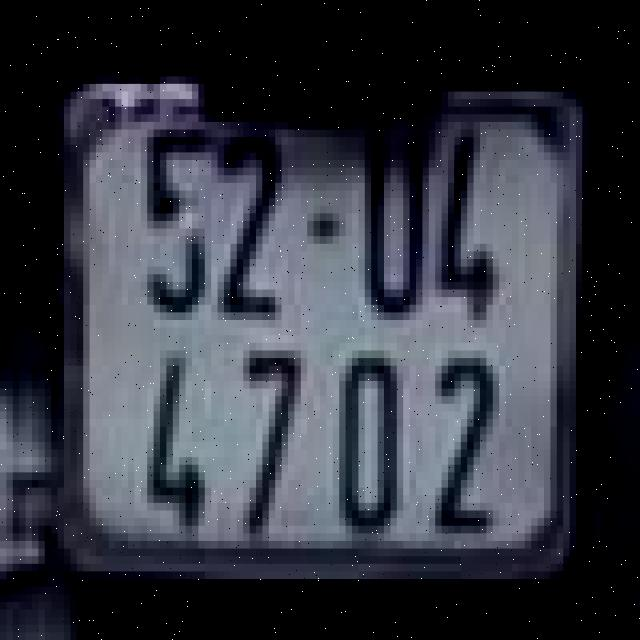0: (339, 343, 397, 533)
2: (410, 328, 506, 541), (218, 114, 294, 328)
4: (428, 114, 506, 320), (141, 351, 211, 534)
5: (137, 110, 220, 324)
7: (234, 332, 304, 537)
U: (346, 126, 428, 324)
